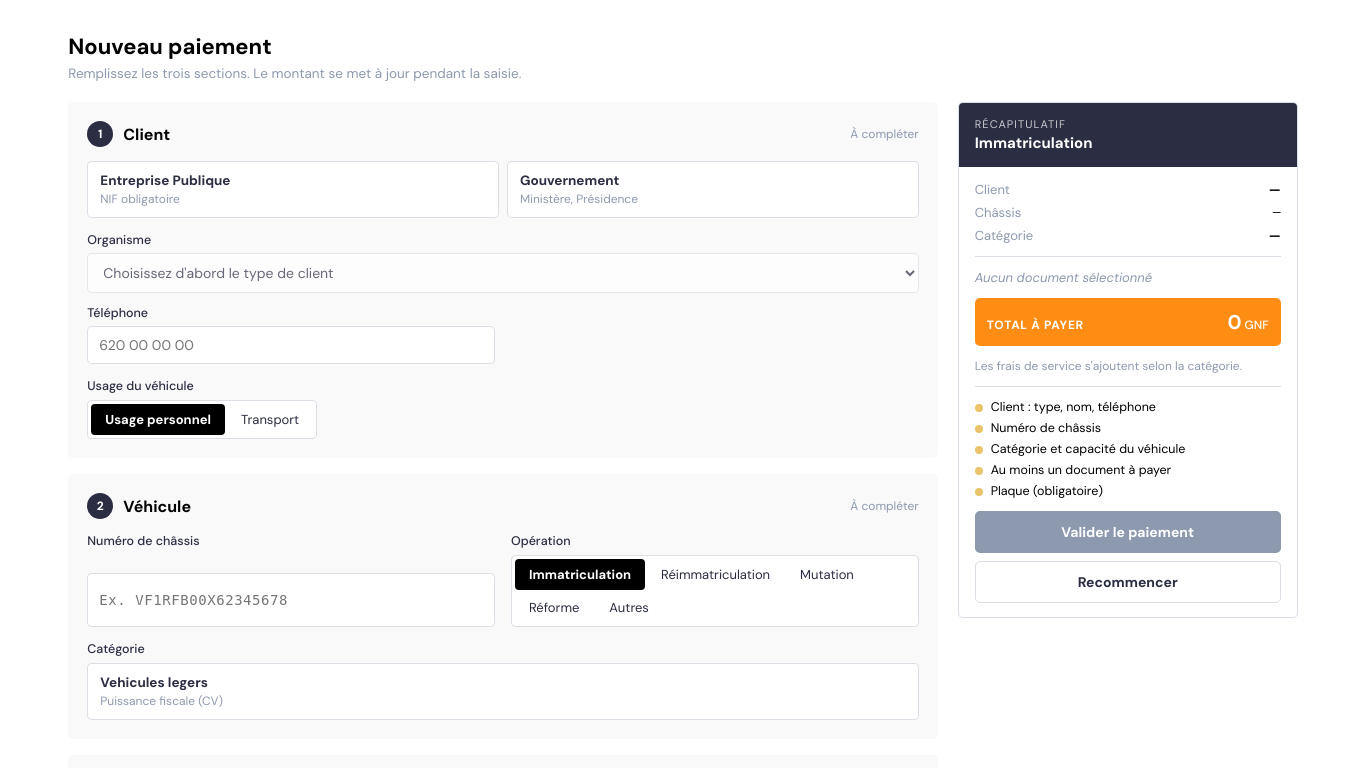
it: Formulaire de nouveau paiement › Châssis déjà immatriculé ou opération en cours › ne propose que Autres tant que le dossier d'immatriculation attend sa validation dans immagov
This screenshot has width=1366, height=768.
Type "jtmhv02j104242881" into the field labelled "Numéro de châssis".
click(291, 600); type("jtmhv02j104242881")  # box [87,572,495,627]
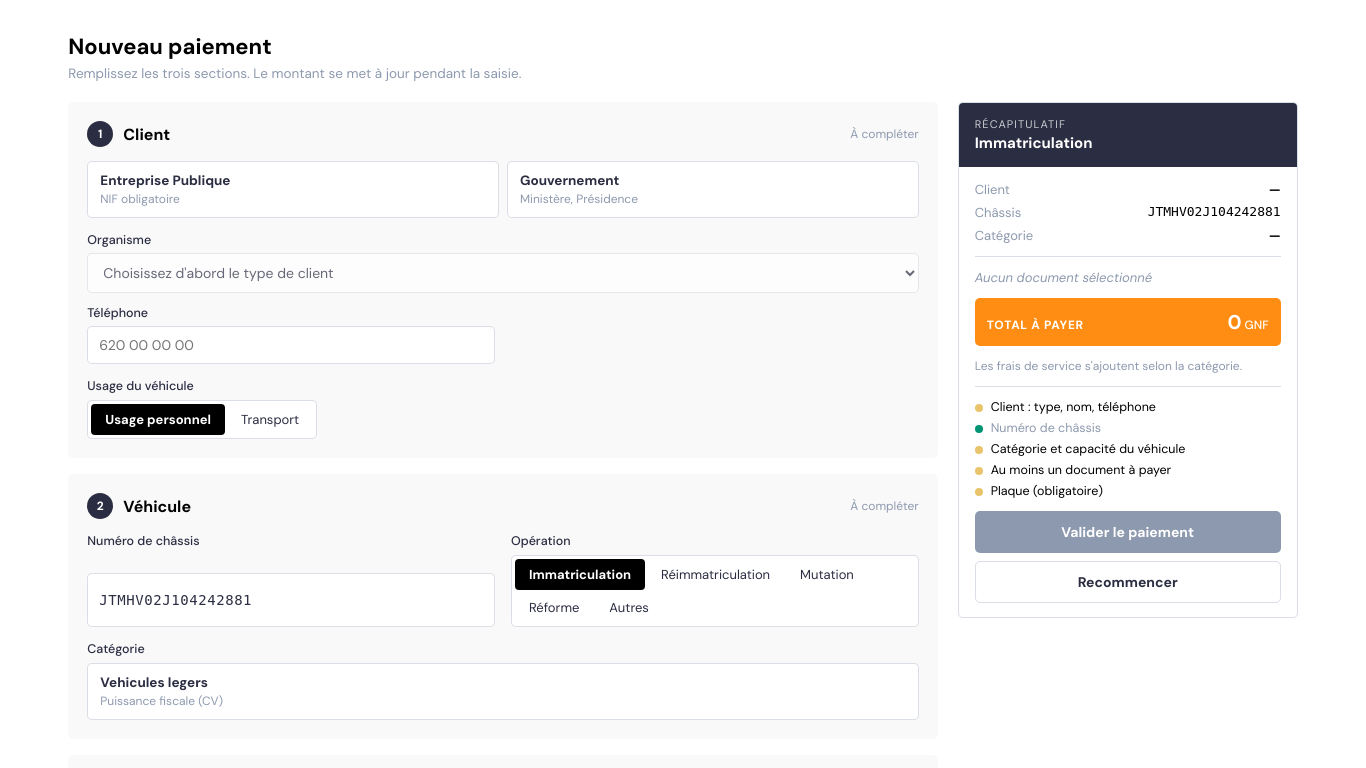
Leave the field labelled "Numéro de châssis", box [87,572,495,627]
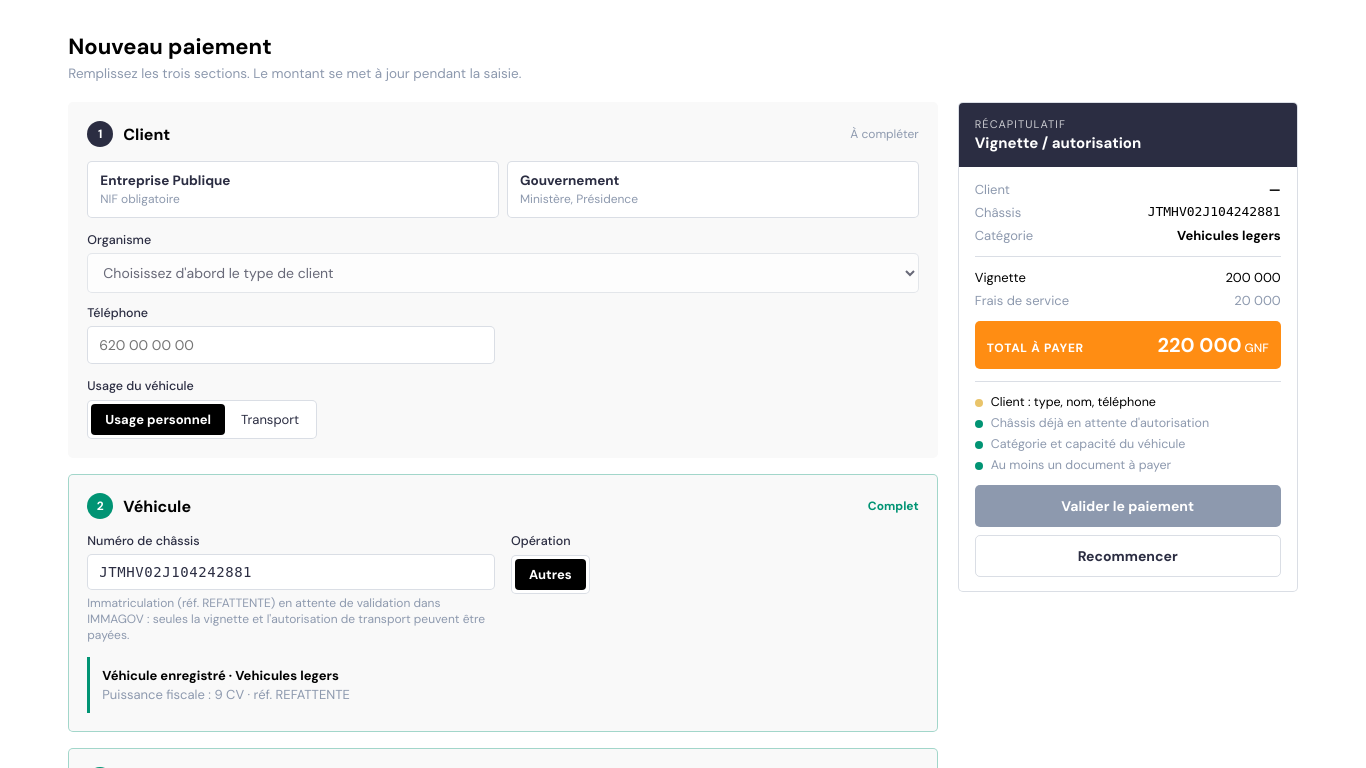
Expected: the text "Immatriculation (réf. REFATTENTE) en attente de validation dans IMMAGOV" is shown, [87,595,485,643]
Expected: the radio button labelled "Autres" is checked, [515,559,586,590]
Expected: the text labelled "Réimmatriculation" is gone
